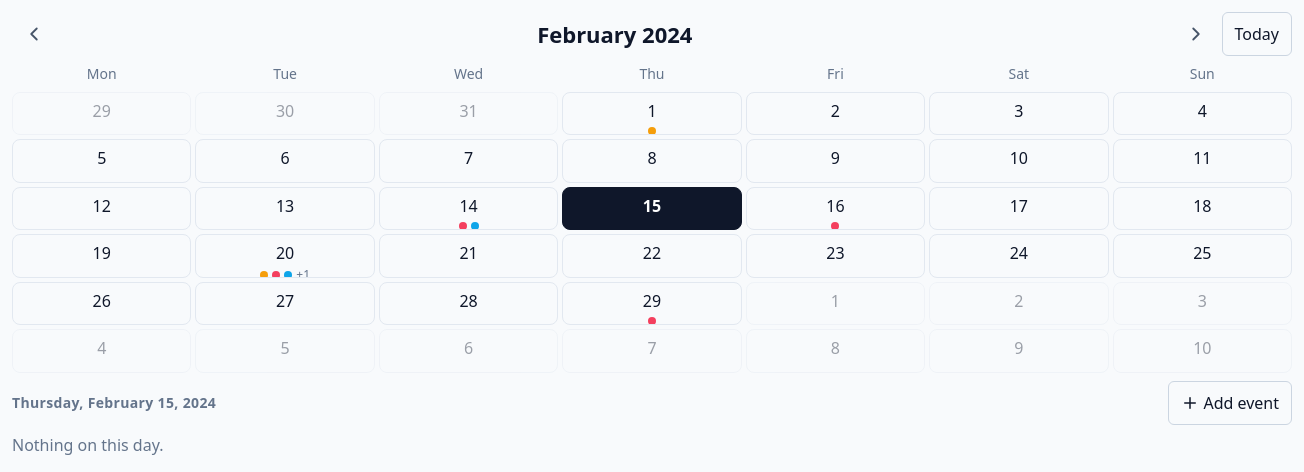
Calendar — navigation › the Today button returns to the current month and re-selects today
This screenshot has width=1304, height=472.
Expected: the heading "February 2024" is shown, [537,19,692,49]
Step 1. Click the button named "Next month" → (1196, 34), box [1174,12,1218,56]
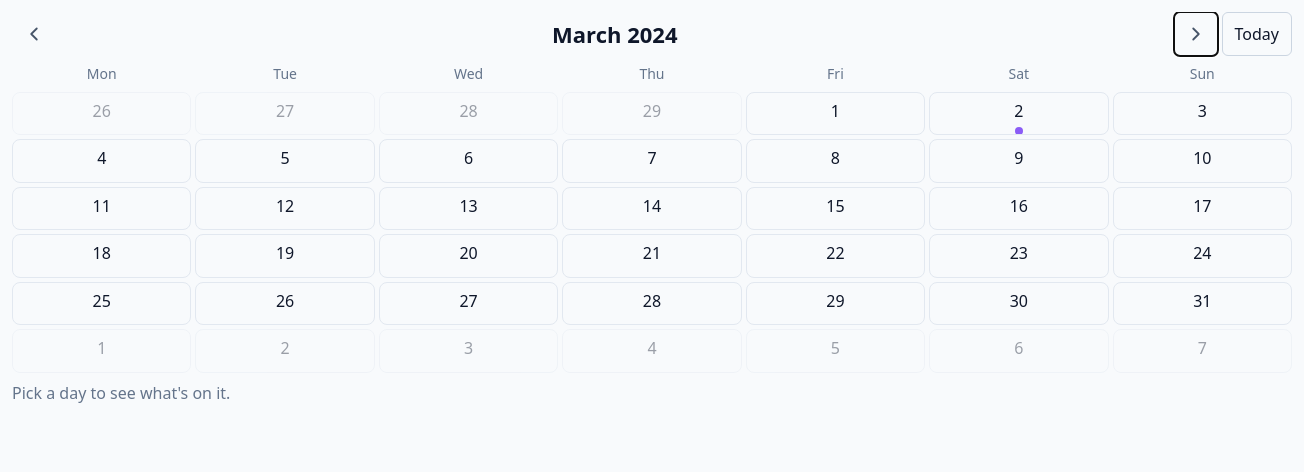
Step 2. Click the button named "Next month" → (1196, 34), box [1174,12,1218,56]
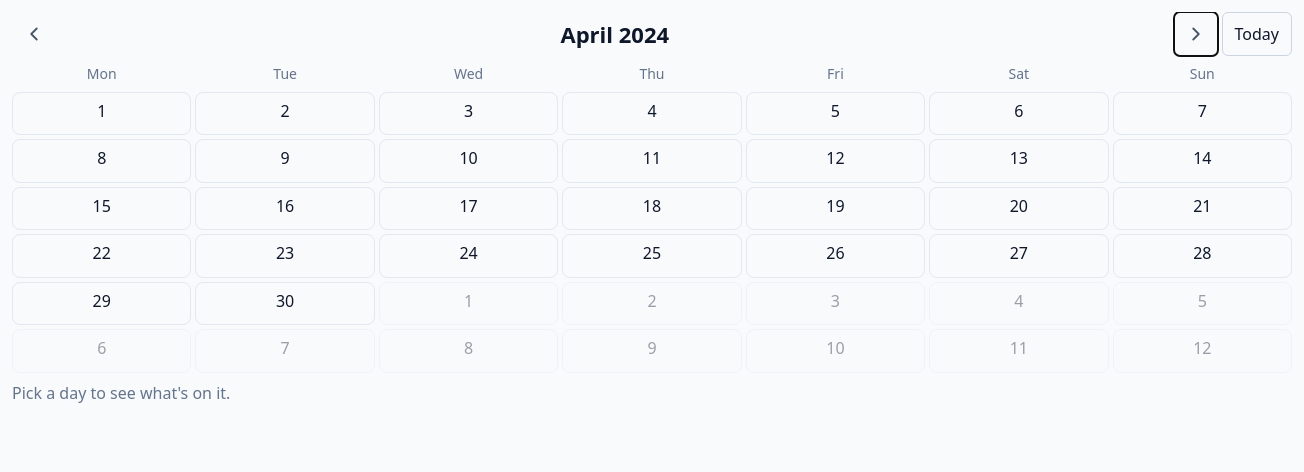
Result: the heading "April 2024" is shown at [560,19,669,49]
Step 3. Click the button "Today" → (1257, 34), box [1222,12,1292,56]
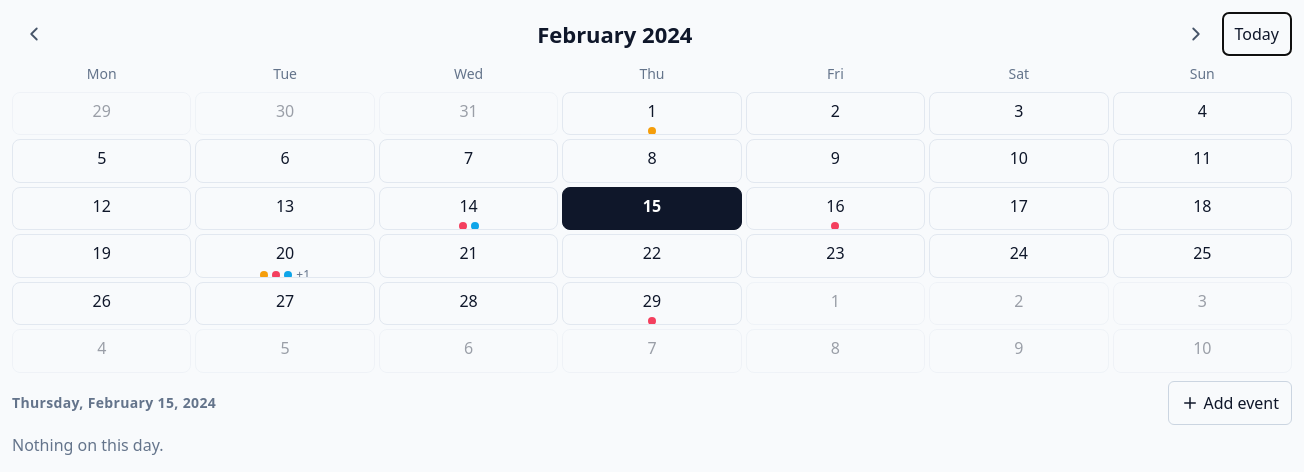
Result: the heading "February 2024" is shown at [537,19,692,49]
